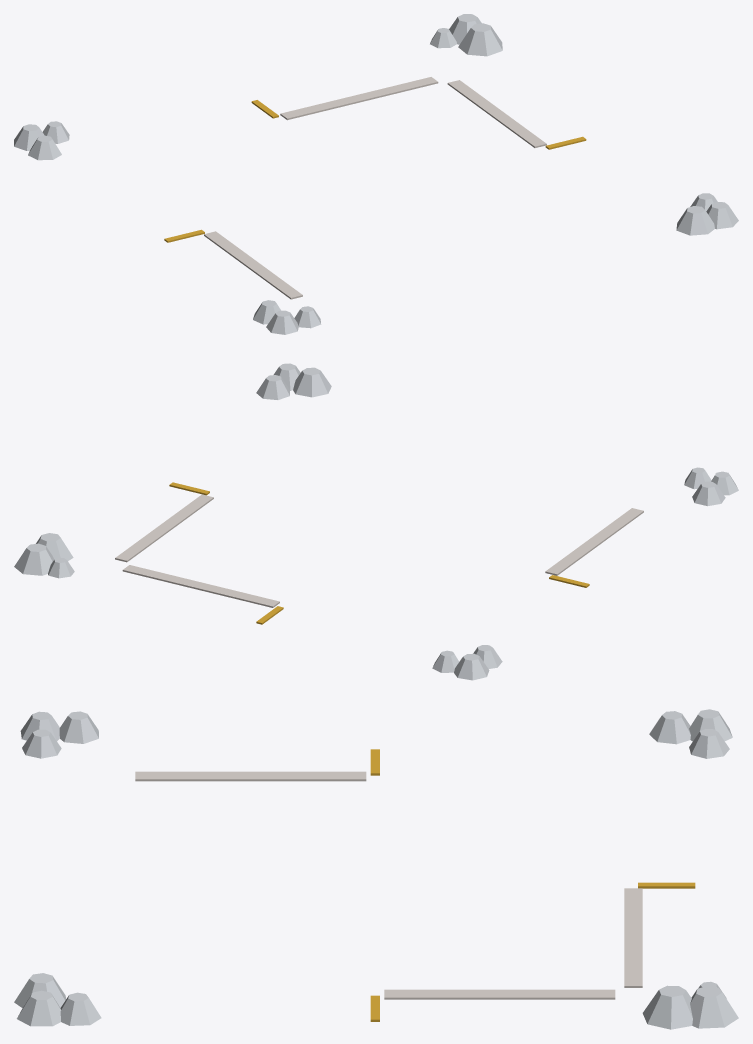
File: Road_T_Marks.glb
The picture shows the model from 3 angles, top to bottom: view 1: azimuth 30°, elevation 25°; view 2: azimuth 150°, elevation 25°; view 3: azimuth 270°, elevation 25°; orthographic projection. The views are drawn at different scales.
Visible parts, largest first — view 1: Road_T_Marks; view 2: Road_T_Marks; view 3: Road_T_Marks.
Boxes of the visible parts, x1,y1,x2,y2 form: Road_T_Marks: (14,14,738,334); Road_T_Marks: (14,363,738,680); Road_T_Marks: (14,709,738,1029).
Bounding box in the file's own units: 31.65 × 1.76 × 31.73.
